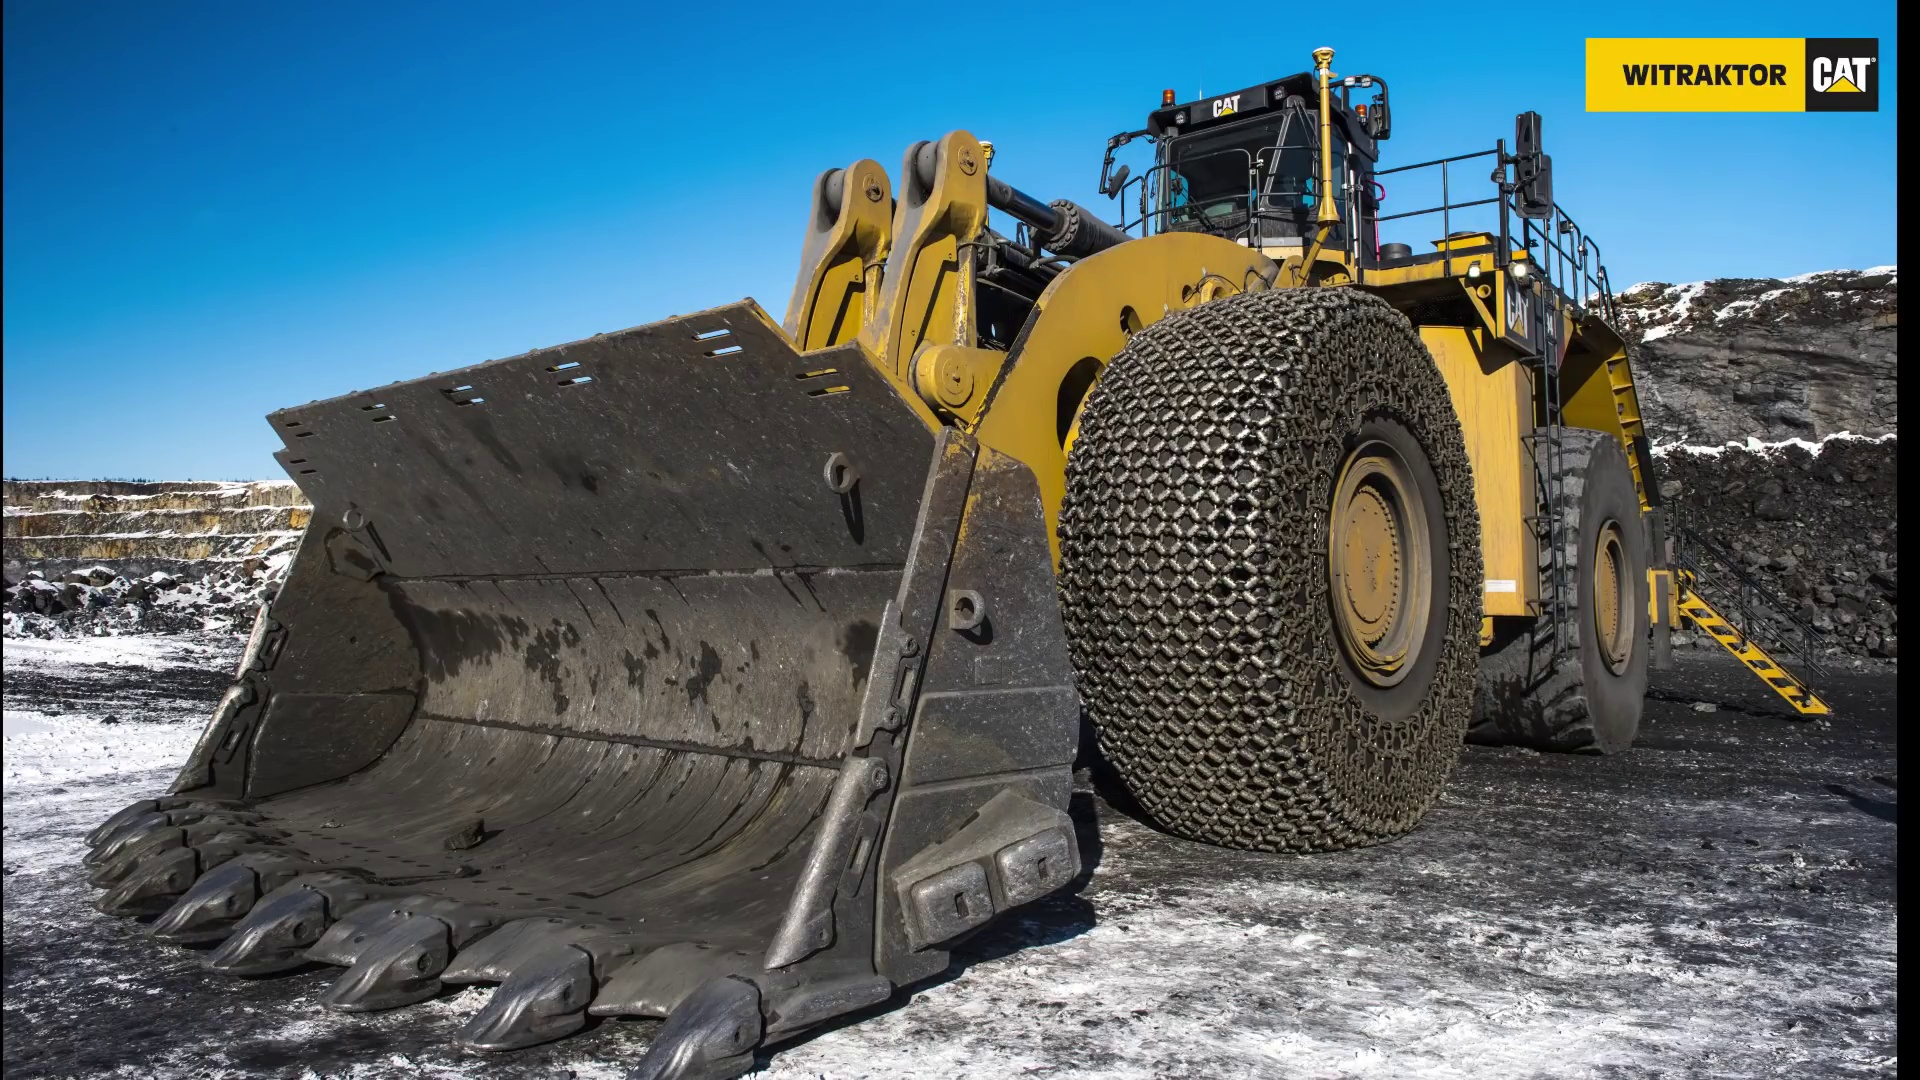wheel loader: (78, 42, 1834, 1065)
